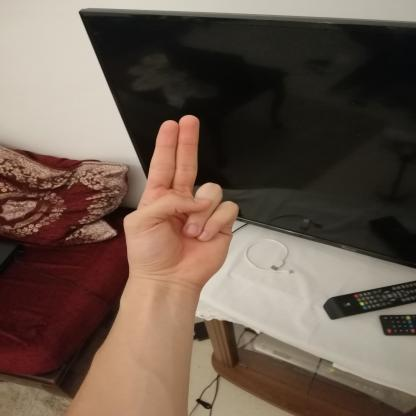TA: (107, 100, 248, 294)
